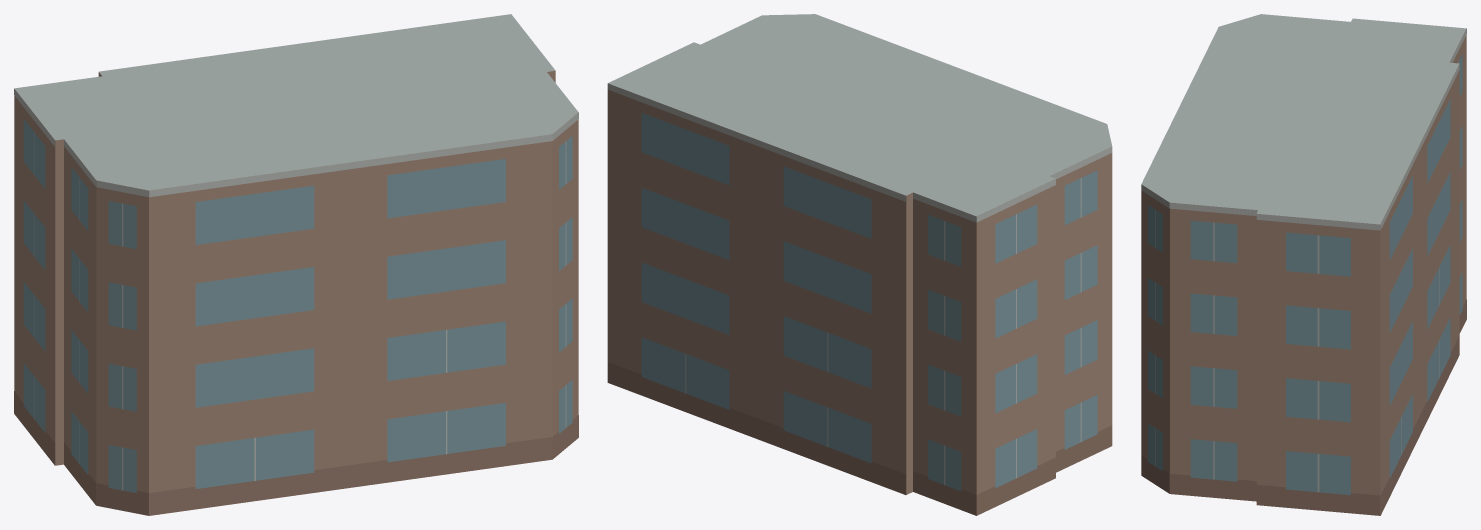
The model's file is survey-upis-32616140.glb.
3 views of the same model, side by side, from view 1: azimuth 30°, elevation 25°; view 2: azimuth 150°, elevation 25°; view 3: azimuth 270°, elevation 25° (orthographic). The views are drawn at different scales.
Parts seen in each view (by area): view 1: survey-upis-32616140.tmp; view 2: survey-upis-32616140.tmp; view 3: survey-upis-32616140.tmp.
Boxes of the visible parts, bbox=[...] form: survey-upis-32616140.tmp: bbox=[14, 14, 578, 515]; survey-upis-32616140.tmp: bbox=[607, 14, 1112, 515]; survey-upis-32616140.tmp: bbox=[1141, 14, 1466, 515].
Bounding box in the file's own units: 18.27 × 11.78 × 11.93.
